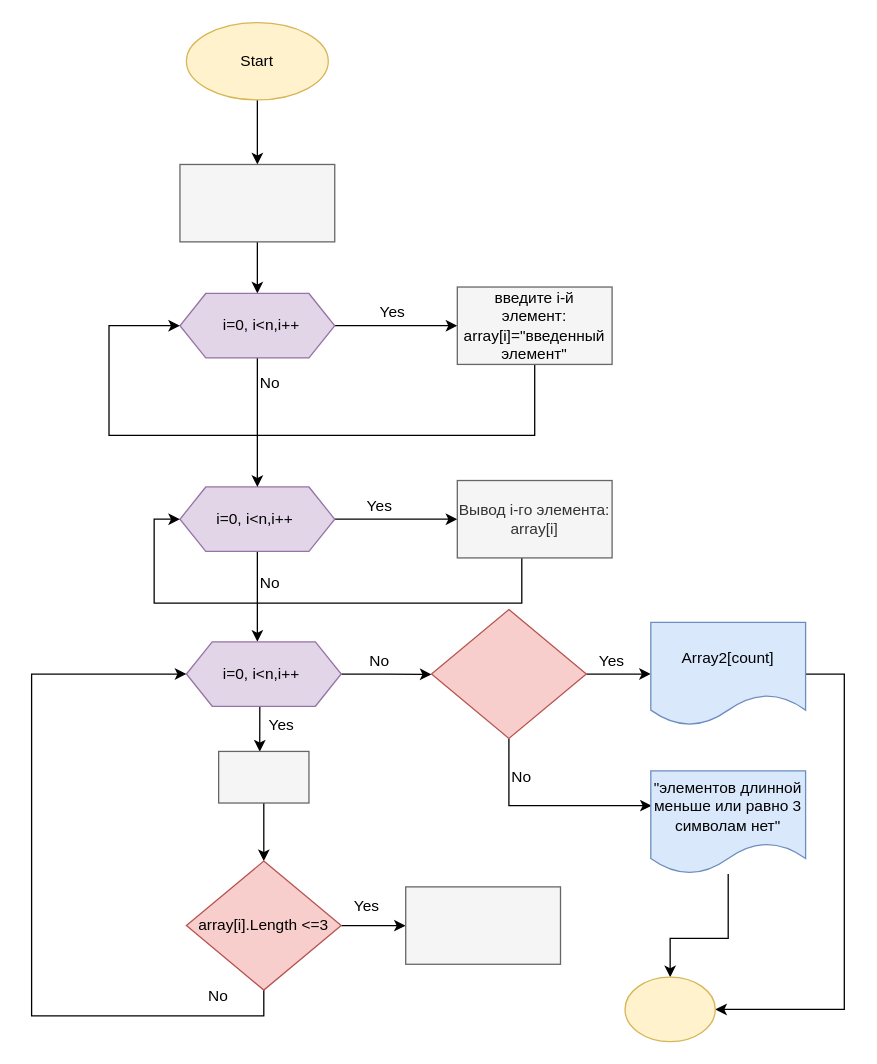
The diagram is 877 pixels wide and 1064 high, and some of its shapes have lost their labels. The shapes that lost their labels are listed below. From the top down, each one's box as (x1, y1, x2, y2) in pixels, then its label:
(179, 163, 335, 242): size = n array[n] array2 [n]
(430, 608, 586, 739): count>0
(217, 750, 309, 803): count=0
(404, 886, 561, 964): array2[count] = array[i]
(624, 976, 715, 1042): End
